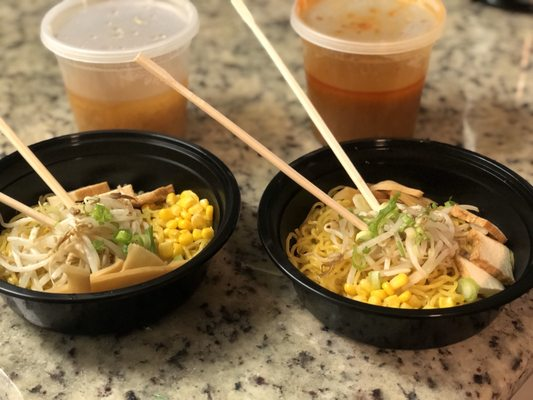pizza: (289, 0, 448, 140), (39, 0, 201, 137)
salad: (134, 49, 371, 232), (231, 8, 384, 218), (0, 116, 81, 214)
sushi: (257, 136, 532, 350), (0, 130, 241, 336)
